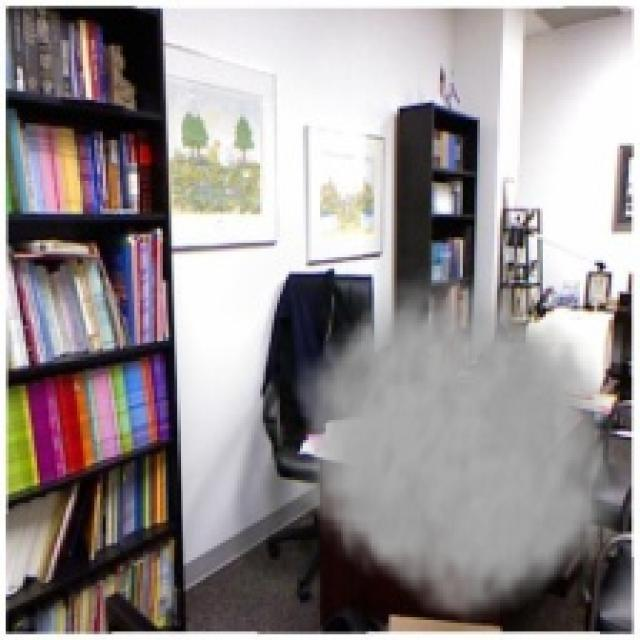Smoke: (292, 257, 634, 632)
